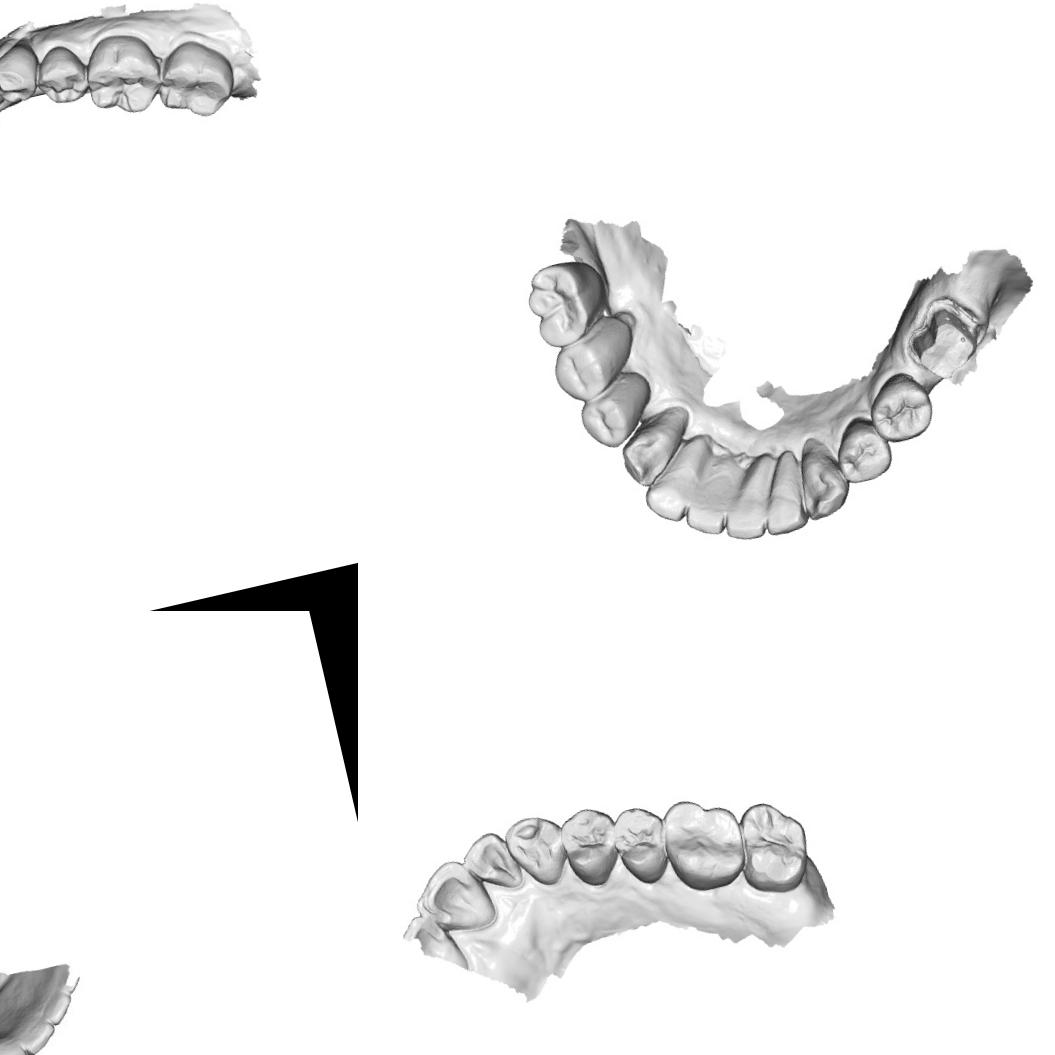canine: (786, 432, 854, 526), (610, 416, 694, 492), (500, 809, 572, 892), (0, 1031, 30, 1055)
crown: (899, 292, 991, 387)
incisor: (406, 852, 501, 944), (636, 446, 710, 528), (710, 462, 777, 546), (456, 824, 526, 902), (752, 455, 812, 537), (676, 470, 740, 542), (25, 983, 78, 1030), (10, 1017, 56, 1055)
molar: (656, 788, 753, 900), (729, 792, 820, 902), (146, 30, 244, 127), (76, 24, 170, 124), (517, 256, 603, 353)
premolar: (555, 802, 627, 894), (862, 366, 940, 448), (545, 327, 624, 404), (609, 801, 676, 891), (827, 410, 898, 489), (575, 381, 644, 454), (28, 38, 96, 111), (0, 40, 45, 109)
